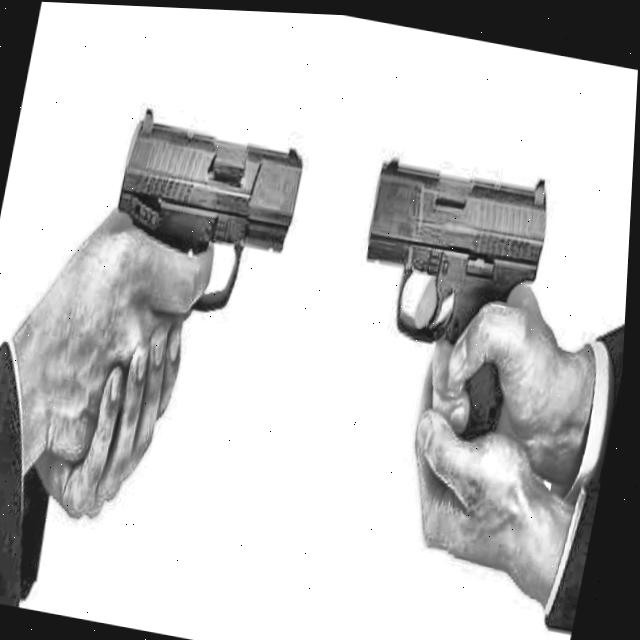pistol: (70, 85, 336, 382)
